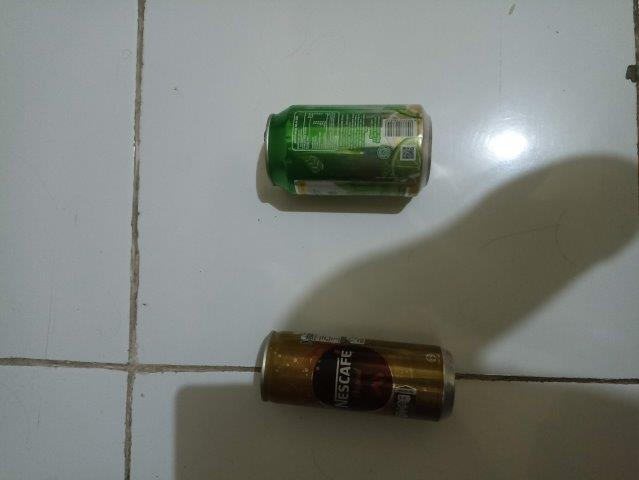kaleng: (259, 330, 456, 422), (264, 103, 434, 197)
